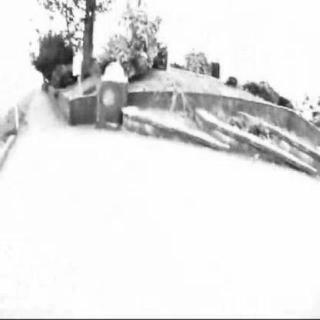other: (102, 59, 185, 130)
